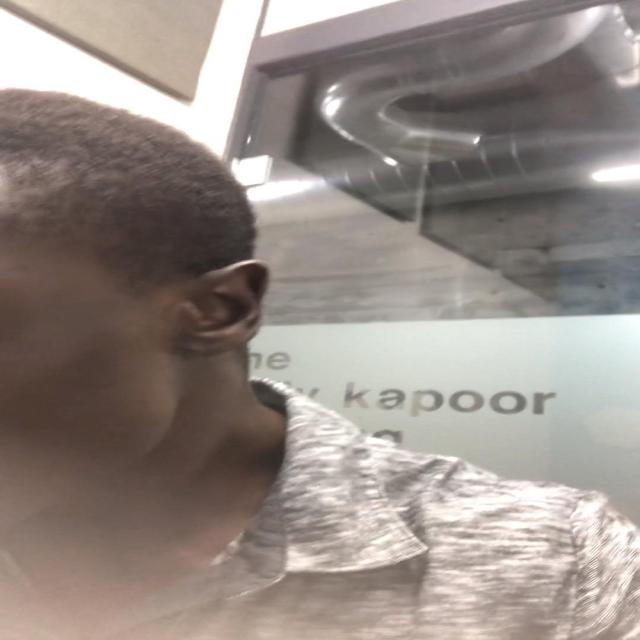face: (1, 202, 234, 537)
